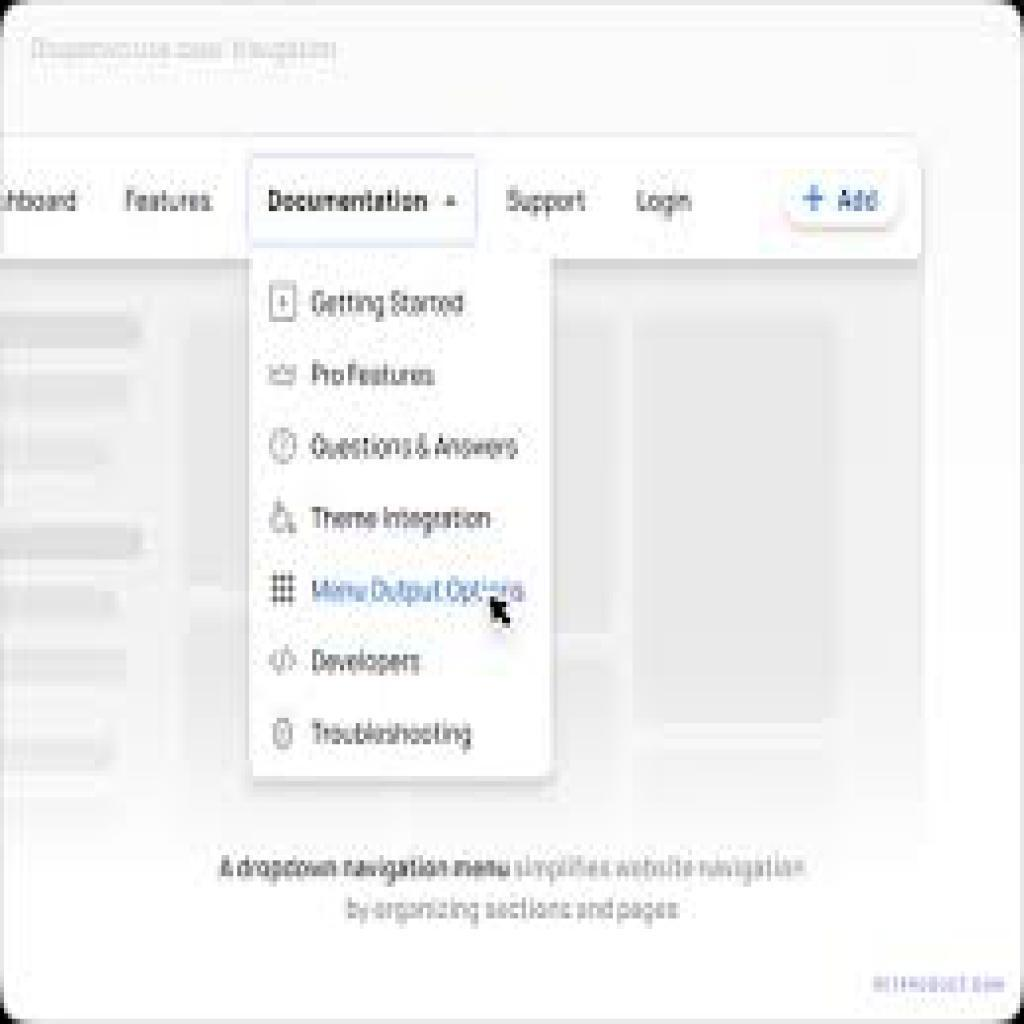button: (779, 166, 909, 235)
dropdown: (253, 156, 480, 241)
icon: (266, 276, 301, 325), (264, 425, 301, 467), (268, 496, 300, 538), (268, 568, 299, 611), (264, 356, 303, 388), (265, 645, 300, 678), (270, 716, 297, 757)
